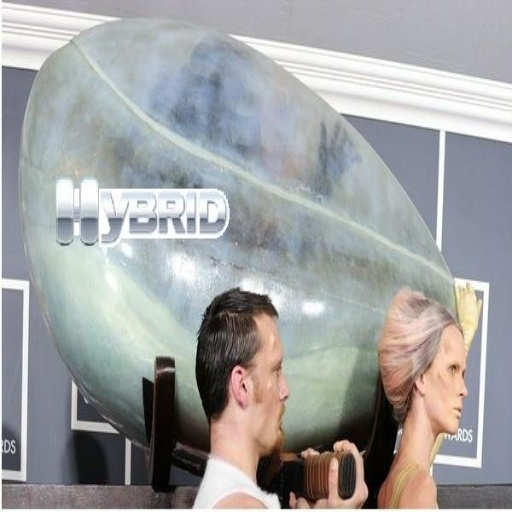hand: (314, 438, 366, 510), (287, 446, 322, 510)
